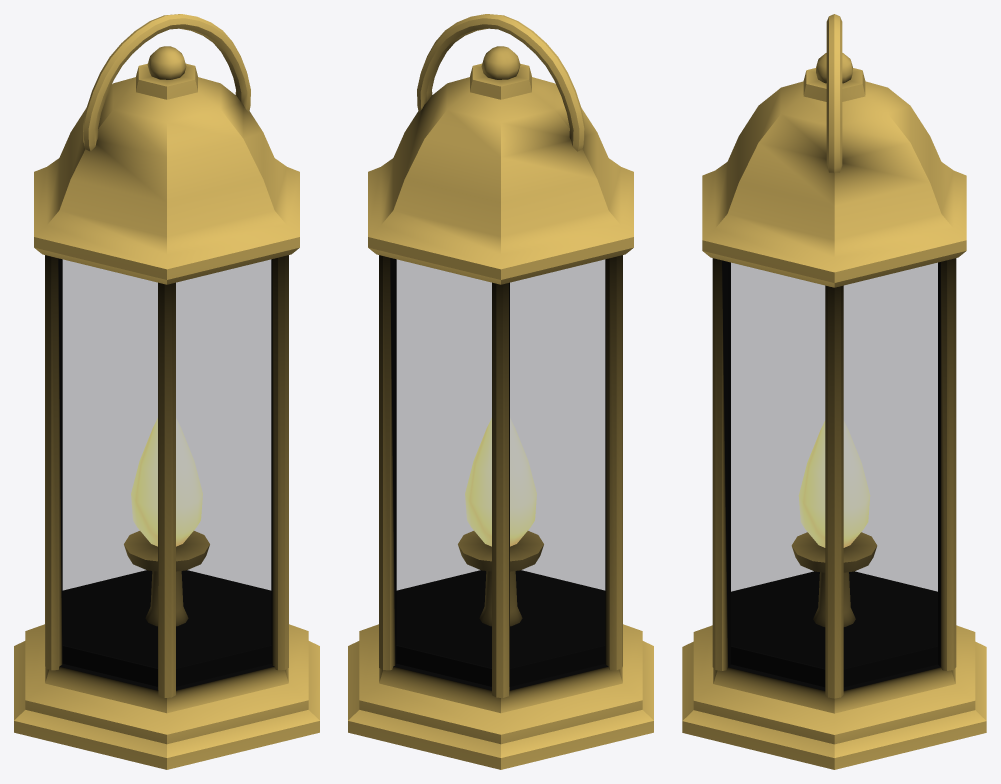
The model's file is lantern_workbench.glb.
3 views of the same model, side by side, from view 1: azimuth 30°, elevation 25°; view 2: azimuth 150°, elevation 25°; view 3: azimuth 270°, elevation 25° (orthographic).
Visible parts, largest first — view 1: Lantern_Body, Lantern_Glass, Lantern_Core; view 2: Lantern_Body, Lantern_Glass, Lantern_Core; view 3: Lantern_Body, Lantern_Glass, Lantern_Core.
Boxes of the visible parts, box(x1,y1,x2,y2) form: Lantern_Body: box(14, 14, 319, 769); Lantern_Glass: box(63, 260, 270, 667); Lantern_Core: box(131, 418, 202, 546); Lantern_Body: box(348, 14, 653, 769); Lantern_Glass: box(397, 260, 604, 667); Lantern_Core: box(465, 418, 536, 546); Lantern_Body: box(682, 14, 986, 769); Lantern_Glass: box(731, 263, 937, 667); Lantern_Core: box(798, 420, 870, 547).
Bounding box in the file's own units: 0.054 × 0.1147 × 0.0468.
